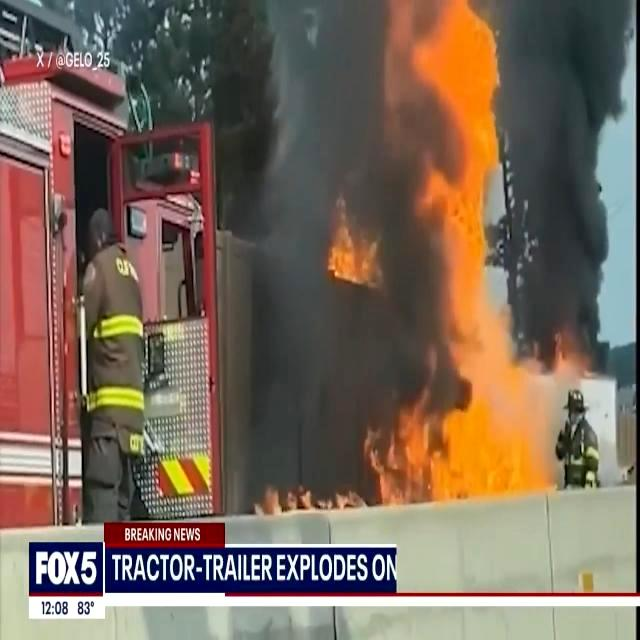fire: (411, 24, 511, 288), (391, 384, 565, 516), (320, 200, 388, 292)
